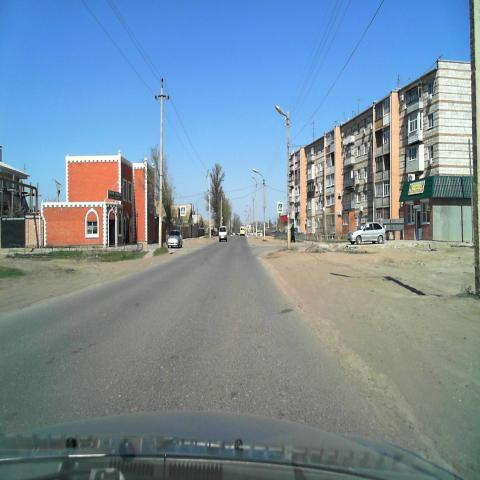5_19_1: (277, 201, 283, 213), (180, 206, 186, 216)
